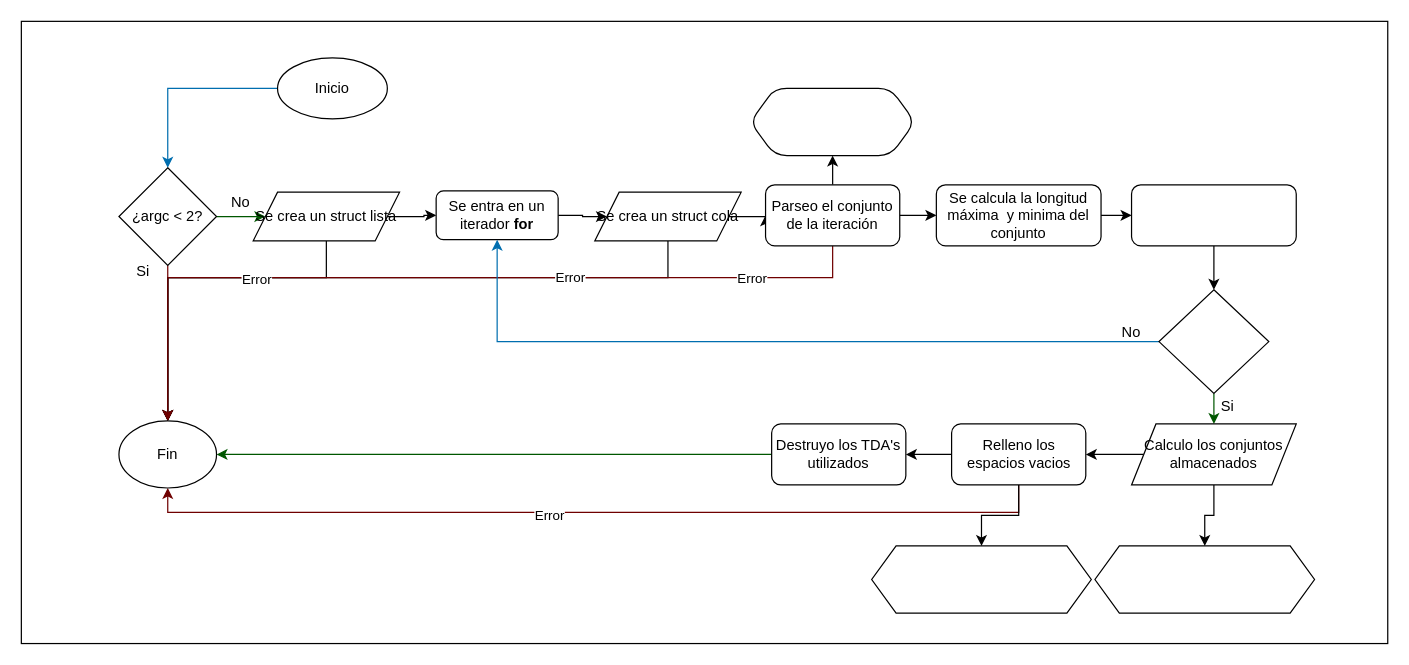
Some shapes in this 1409 by 665 pixel diagram are drawn without their labels. Each missing label, with the centre of its shape:
"Se almacena la cola con el conjunto en la lista creada" belongs at [1213,215].
"Se llama a calculadora_de_conjuntos()" belongs at [1204,579].
"se llama a parsear_conjunto()" belongs at [832,121].
"Se llama a rellenar_espacios_vacios()" belongs at [980,579].
"¿Es el último conjunto?" belongs at [1213,341].
